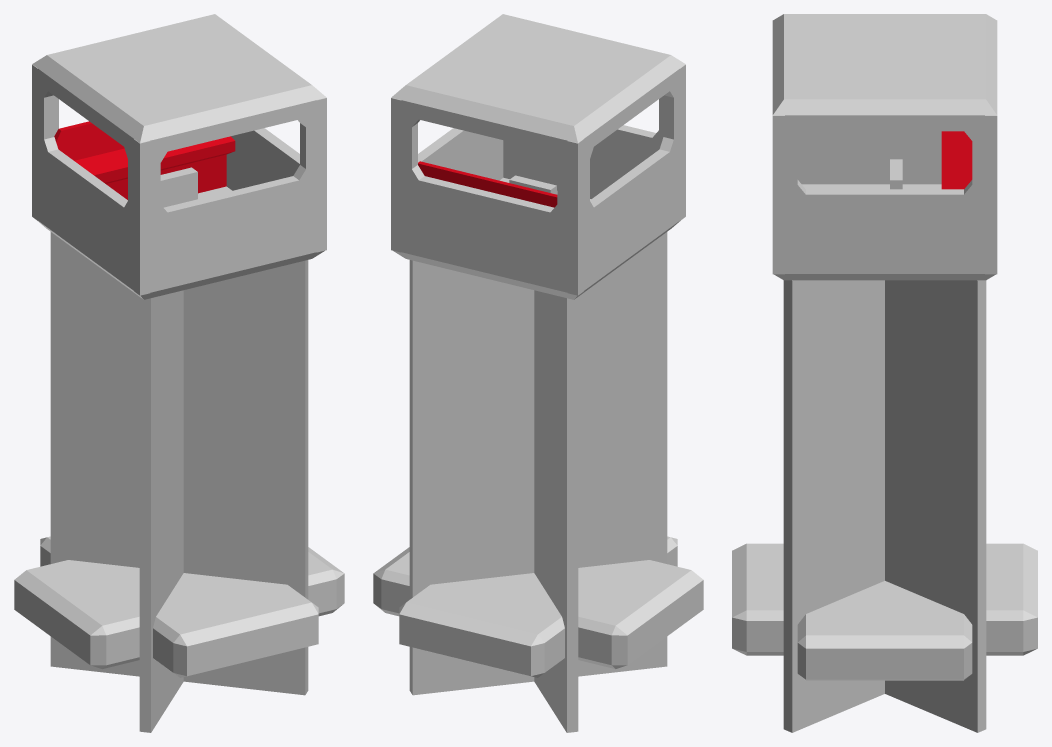
File: controltower2.fbx
The picture shows the model from 3 angles, left to right: view 1: azimuth 30°, elevation 25°; view 2: azimuth 150°, elevation 25°; view 3: azimuth 270°, elevation 25°; orthographic projection. The views are drawn at different scales.
Visible parts, largest first — view 1: armature, roof, wall, wall2, Cube.001, Cube, desk, joints, sol, chair; view 2: armature, wall, roof, Cube.001, wall2, Cube, joints, desk, sol; view 3: armature, wall2, roof, Cube, Cube.001, joints, sol, desk.
Boxes of the visible parts, box(x1,y1,x2,y2) form: armature: box(50, 232, 308, 732); roof: box(32, 14, 326, 142); wall: box(54, 96, 316, 292); wall2: box(38, 69, 299, 290); Cube.001: box(14, 547, 344, 669); Cube: box(40, 536, 318, 677); desk: box(54, 121, 235, 199); joints: box(32, 64, 326, 295); sol: box(37, 186, 324, 299); chair: box(160, 167, 197, 207); armature: box(409, 232, 667, 732); wall: box(401, 96, 663, 292); roof: box(391, 14, 685, 142); Cube.001: box(373, 547, 703, 669); wall2: box(418, 69, 679, 290); Cube: box(399, 536, 677, 677); joints: box(391, 64, 685, 295); desk: box(418, 161, 557, 207); sol: box(393, 177, 680, 299); armature: box(783, 280, 986, 732); wall2: box(785, 115, 984, 273); roof: box(772, 14, 997, 115); Cube: box(732, 543, 1037, 655); Cube.001: box(797, 586, 972, 680); joints: box(772, 115, 997, 274); sol: box(774, 184, 995, 280); desk: box(941, 131, 972, 189).
Size of the model in its own units: 612 by 1400 by 612.
